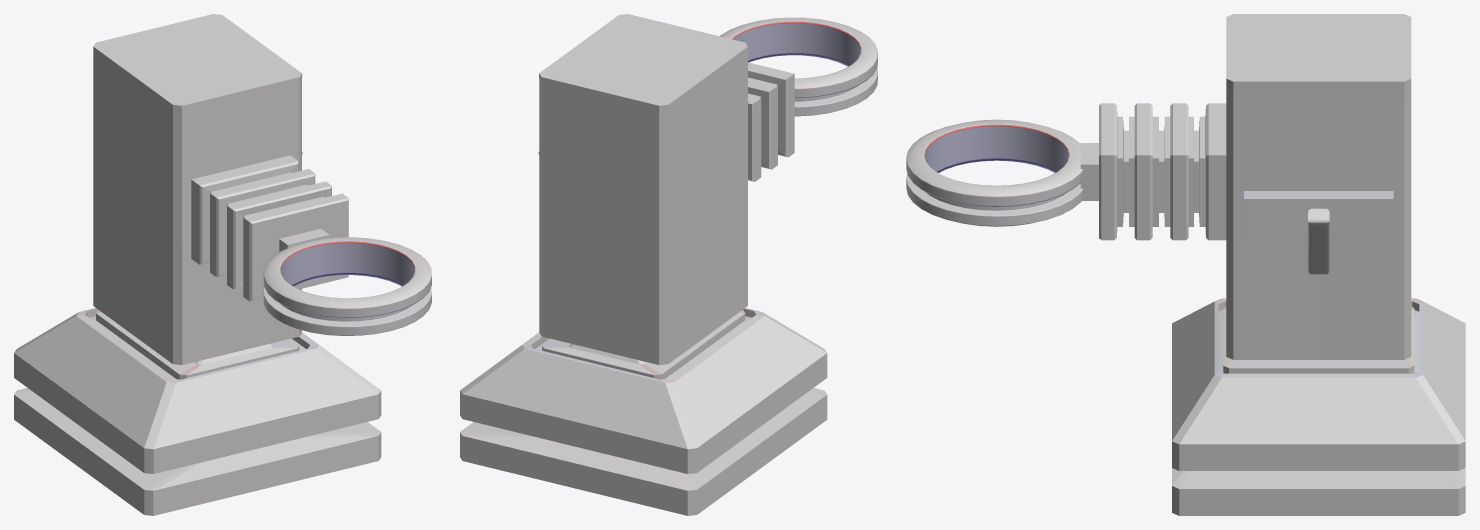
File: Spawn machine uv final.fbx
3 renders of one model, left to right at view 1: azimuth 30°, elevation 25°; view 2: azimuth 150°, elevation 25°; view 3: azimuth 270°, elevation 25°, orthographic. The views are drawn at different scales.
Parts seen in each view (by area): view 1: geo1; view 2: geo1; view 3: geo1.
Boxes of the visible parts, bbox=[...] form: geo1: bbox=[14, 14, 431, 515]; geo1: bbox=[460, 14, 877, 515]; geo1: bbox=[906, 14, 1465, 515].
Size of the model in its own units: 200 by 305 by 381.
